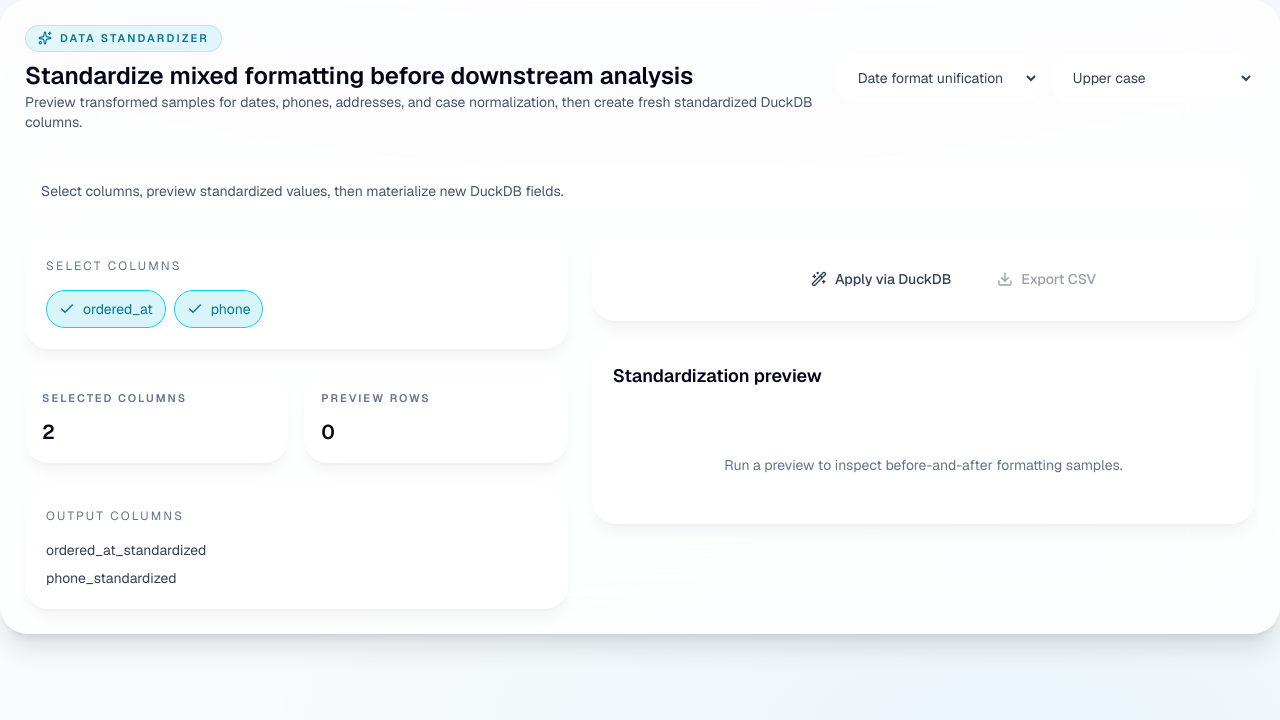
DataStandardizer › applies standardized DuckDB columns for every selected field
Click the button "Apply via DuckDB" at x=881, y=278, box [794,258,968,300]
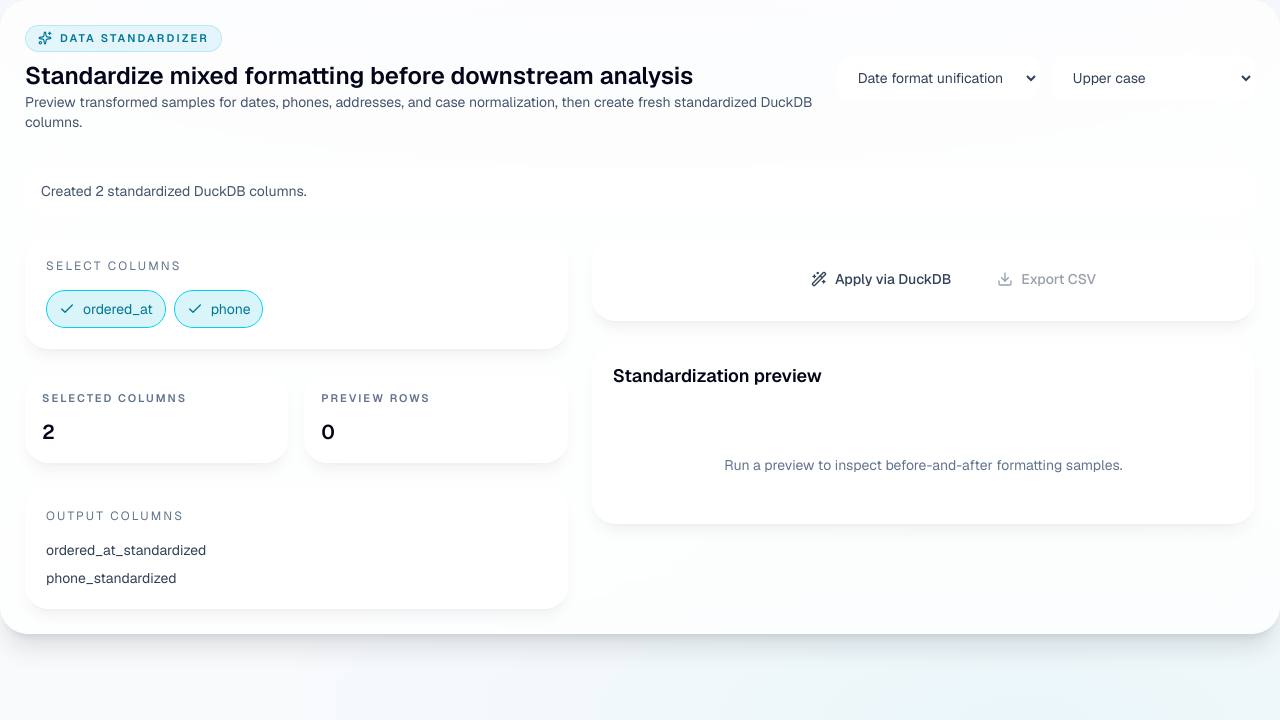
Result: the text "Created 2 standardized DuckDB columns." is shown at [25,168,1255,212]
